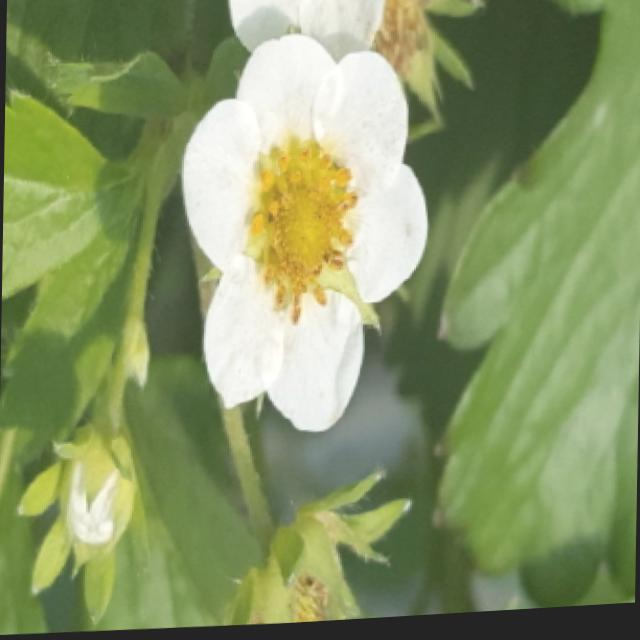Blossom Blight: (235, 133, 360, 331)
